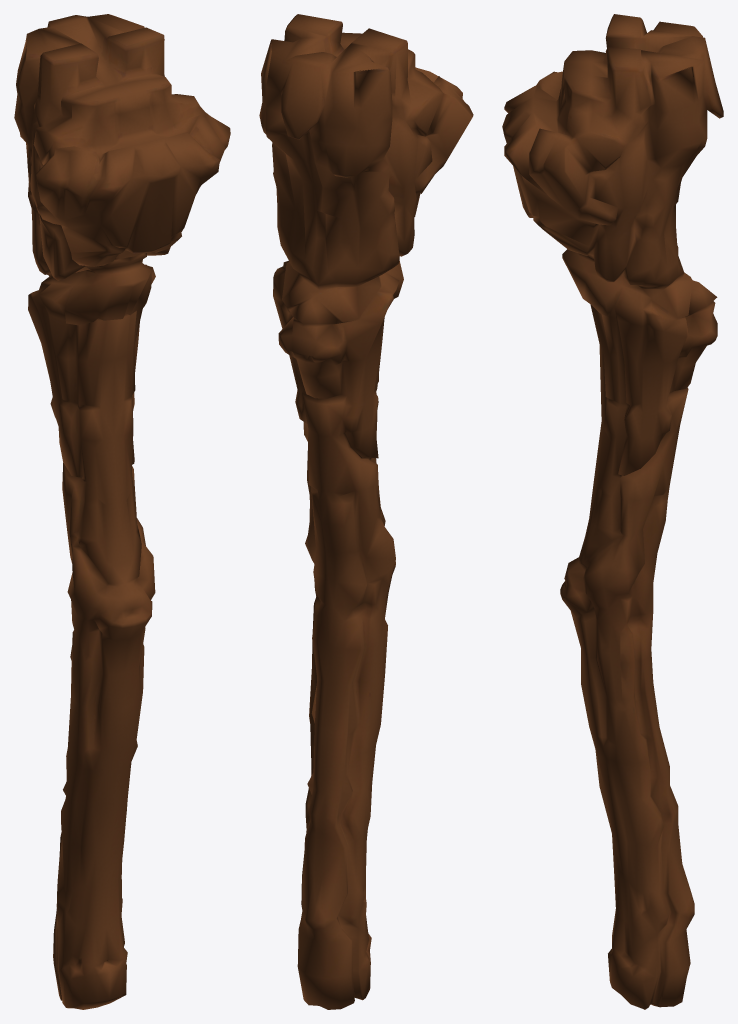
The model's file is wardens_broken_rod.glb.
3 views of the same model, side by side, from view 1: azimuth 30°, elevation 25°; view 2: azimuth 150°, elevation 25°; view 3: azimuth 270°, elevation 25° (orthographic).
Parts seen in each view (by area): view 1: base_model_path; view 2: base_model_path; view 3: base_model_path.
Part boxes in pixels (box(x1,y1,x2,y2)): base_model_path: box(14, 14, 230, 1009); base_model_path: box(259, 14, 473, 1009); base_model_path: box(502, 14, 723, 1009).
Size of the model in its own units: 0.2092 by 0.9993 by 0.2092.
1 material, 1 textured.
